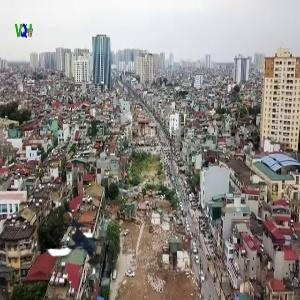drone: (38, 208, 111, 281)
